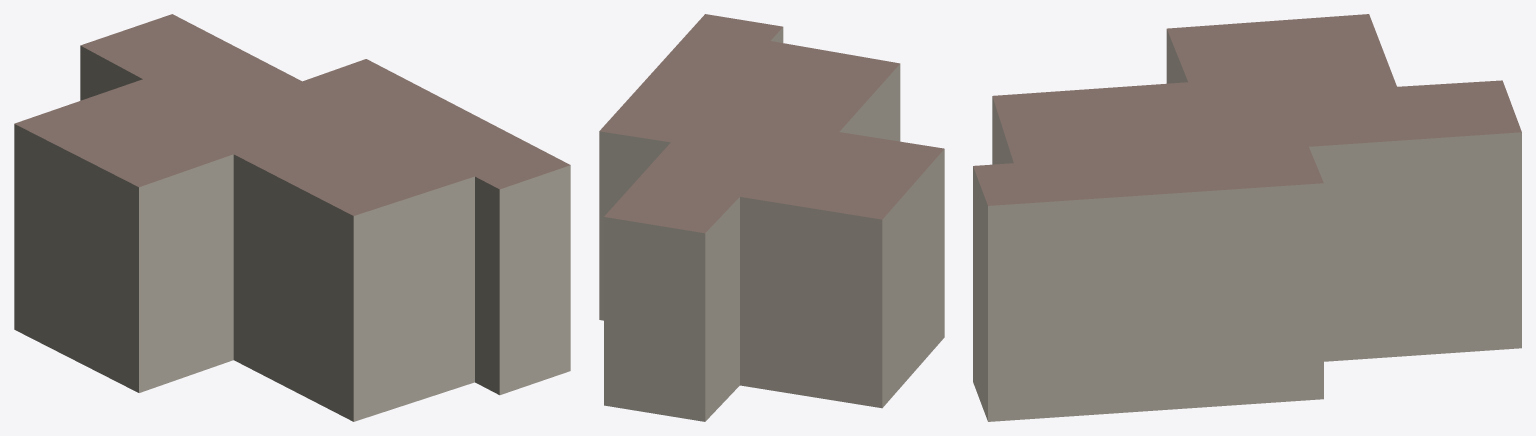
3 views of the same model, side by side, from view 1: azimuth 30°, elevation 25°; view 2: azimuth 150°, elevation 25°; view 3: azimuth 270°, elevation 25° (orthographic). The views are drawn at different scales.
Parts seen in each view (by area): view 1: tuile; view 2: tuile; view 3: tuile.
Boxes of the visible parts, x1,y1,x2,y2 form: tuile: [14, 14, 570, 421]; tuile: [599, 14, 944, 421]; tuile: [973, 14, 1521, 421].
Size of the model in its own units: 21.1 by 11.07 by 25.5.
